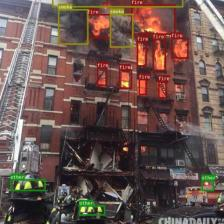fire: (130, 4, 176, 35), (86, 14, 110, 38), (152, 38, 166, 71), (171, 37, 188, 58), (118, 69, 132, 89), (136, 41, 146, 66), (96, 67, 106, 86), (158, 80, 166, 98), (138, 78, 146, 95)
smoke: (58, 9, 88, 44), (51, 0, 183, 7), (110, 13, 134, 48)
